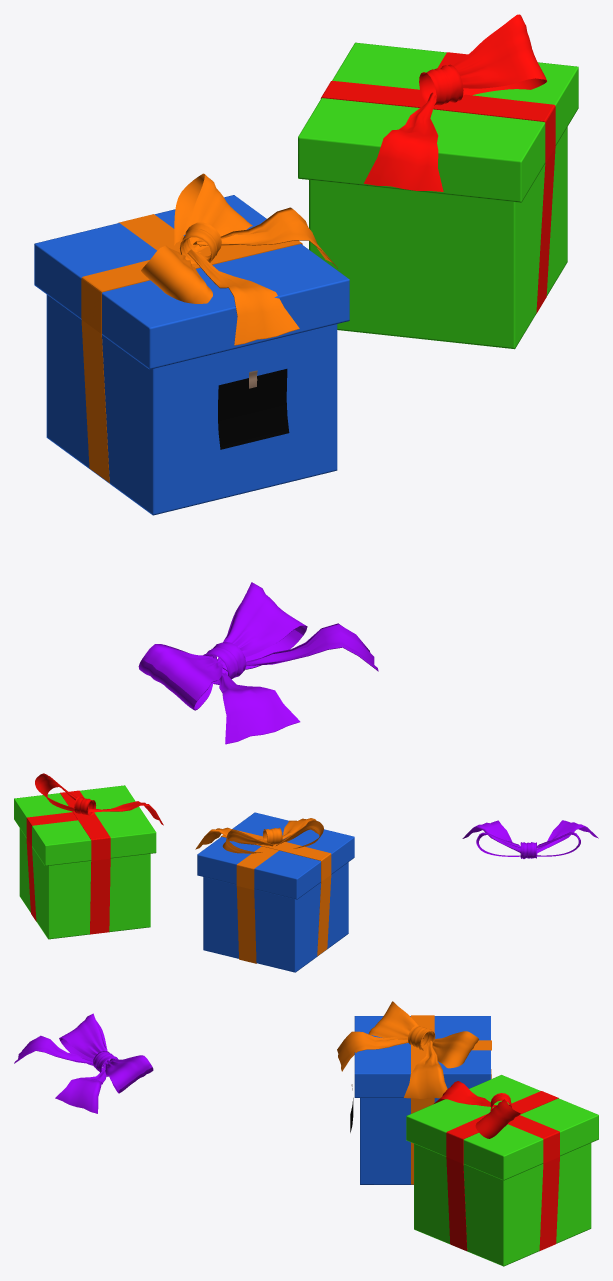
File: gift6.glb
The picture shows the model from 3 angles, top to bottom: view 1: azimuth 30°, elevation 25°; view 2: azimuth 150°, elevation 25°; view 3: azimuth 270°, elevation 25°; orthographic projection. The views are drawn at different scales.
Parts seen in each view (by area): view 1: Cube004, Cube.001, Plane.009, Plane005, Plane012, Plane.004, Plane.006, Plane002, Plane.008, Plane009, Plane010, Cylinder.001 (+2 smaller); view 2: Cube004, Cube.001, Plane.004, Plane003, Plane.009, Plane005, Plane.001, Plane012, Plane009, Plane.006, Plane.008, Plane010 (+2 smaller); view 3: Cube.001, Cube004, Plane.009, Plane.004, Plane012, Plane.001, Plane009, Plane010, Plane005, Plane.006, Plane.008, Cylinder001.
Boxes of the visible parts, <box> form: Cube004: <box>34,195,349,515</box>; Cube.001: <box>298,42,578,349</box>; Plane.009: <box>138,582,378,744</box>; Plane005: <box>81,240,302,482</box>; Plane012: <box>187,207,337,345</box>; Plane.004: <box>320,80,555,313</box>; Plane.006: <box>453,14,546,95</box>; Plane002: <box>218,369,289,449</box>; Plane.008: <box>364,92,443,191</box>; Plane009: <box>174,173,252,250</box>; Plane010: <box>141,245,212,303</box>; Cylinder.001: <box>419,64,463,105</box>; Cube004: <box>197,812,354,972</box>; Cube.001: <box>14,785,156,939</box>; Plane.004: <box>60,790,110,934</box>; Plane003: <box>236,846,278,963</box>; Plane.009: <box>462,820,598,858</box>; Plane005: <box>221,829,331,956</box>; Plane.001: <box>26,812,77,921</box>; Plane012: <box>195,818,315,849</box>; Plane009: <box>222,829,273,853</box>; Plane.006: <box>35,773,76,811</box>; Plane.008: <box>89,801,163,825</box>; Plane010: <box>276,820,323,848</box>; Cube.001: <box>406,1075,598,1266</box>; Cube004: <box>354,1016,490,1184</box>; Plane.009: <box>14,1013,153,1113</box>; Plane.004: <box>446,1091,558,1251</box>; Plane012: <box>337,1031,447,1098</box>; Plane.001: <box>508,1115,559,1250</box>; Plane009: <box>432,1031,478,1068</box>; Plane010: <box>368,1001,417,1038</box>; Plane005: <box>411,1015,434,1184</box>; Plane.006: <box>475,1099,520,1138</box>; Plane.008: <box>434,1081,496,1107</box>; Cylinder001: <box>408,1025,435,1050</box>.
Bounding box in the file's own units: 8.53 × 3.04 × 9.33.
